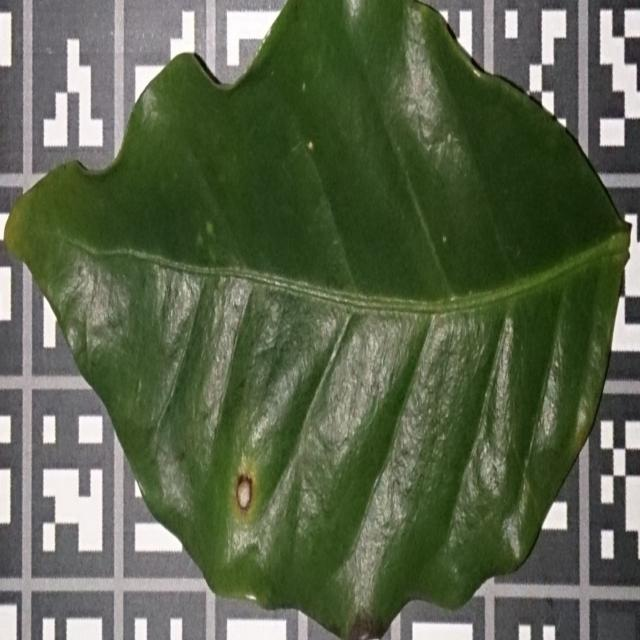Enfermedad-Mancha-de-hierro: (2, 0, 629, 640)
